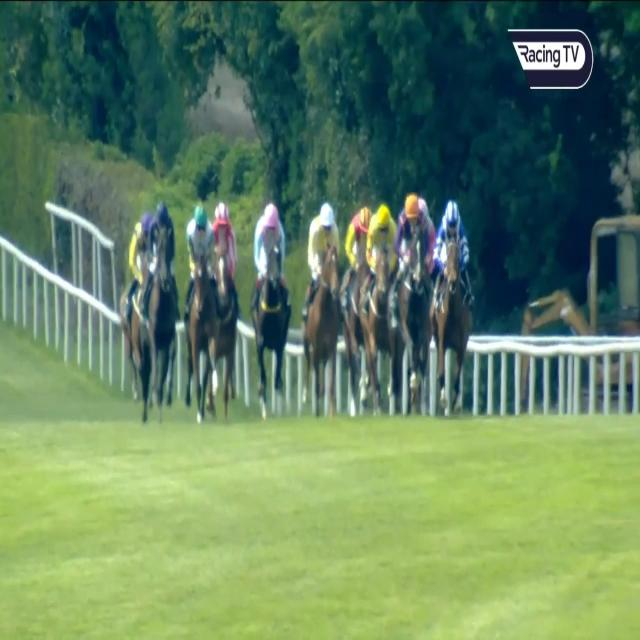horses-racing: (252, 198, 296, 412), (143, 195, 182, 424), (177, 190, 216, 417), (436, 192, 474, 411), (397, 188, 432, 413), (212, 196, 242, 421), (307, 202, 338, 419), (367, 195, 399, 404), (342, 197, 370, 413), (127, 209, 150, 407), (418, 190, 438, 291)
